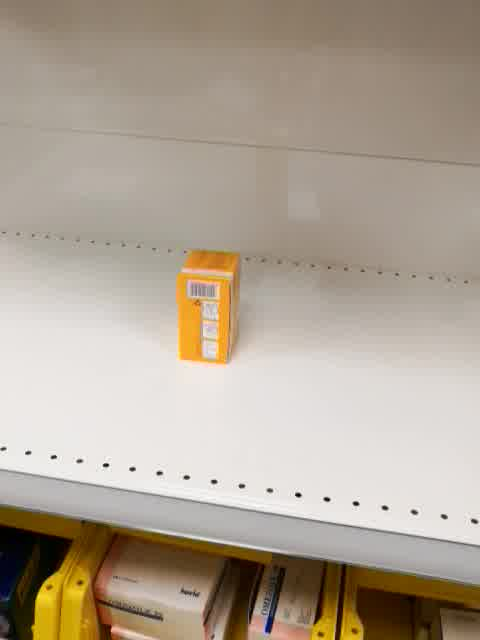jasminetea: (175, 249, 241, 365)
